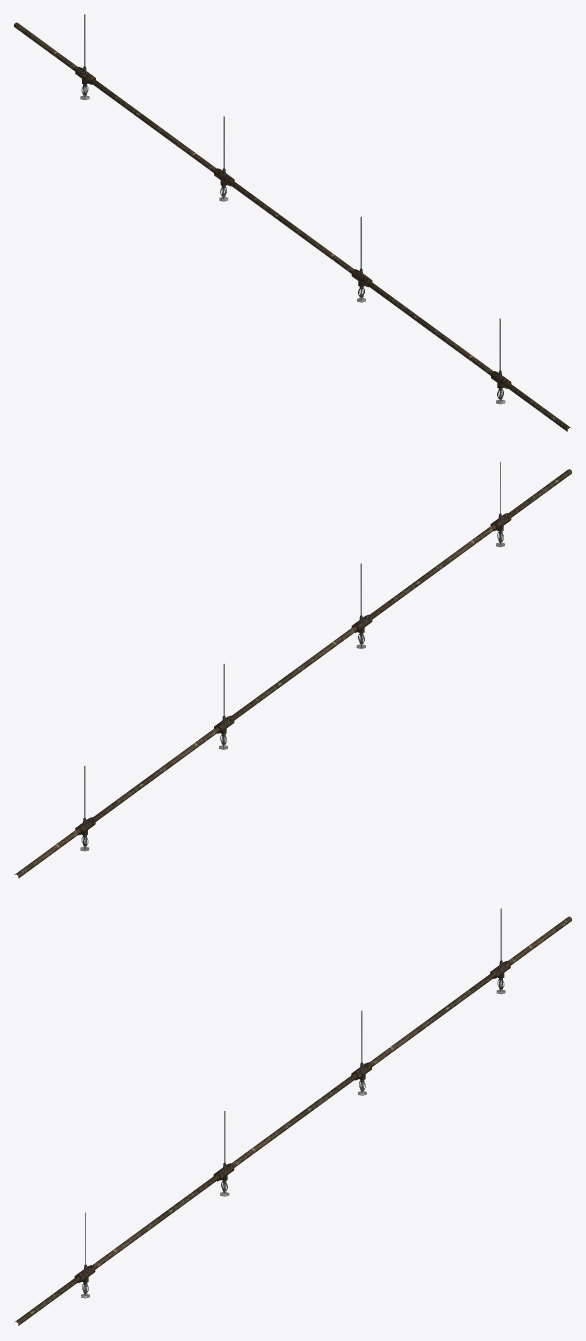
Rendered from prison_sprinkler001a.glb.
3 renders of one model, top to bottom at view 1: azimuth 30°, elevation 25°; view 2: azimuth 150°, elevation 25°; view 3: azimuth 330°, elevation 25°, orthographic.
Parts seen in each view (by area): view 1: 0_prison_objects004; view 2: 0_prison_objects004; view 3: 0_prison_objects004.
Boxes of the visible parts, x1,y1,x2,y2 form: 0_prison_objects004: (14,14,571,431); 0_prison_objects004: (14,462,571,878); 0_prison_objects004: (14,908,571,1325).
Bounding box in the file's own units: 0.1237 × 1.08 × 13.01.
Materials: 1 (1 with a texture image).
